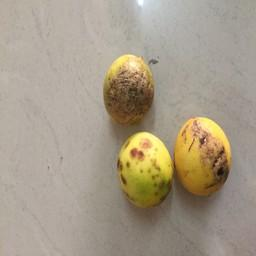Bad_lime: (175, 117, 230, 196), (119, 132, 173, 209), (104, 55, 159, 125)
